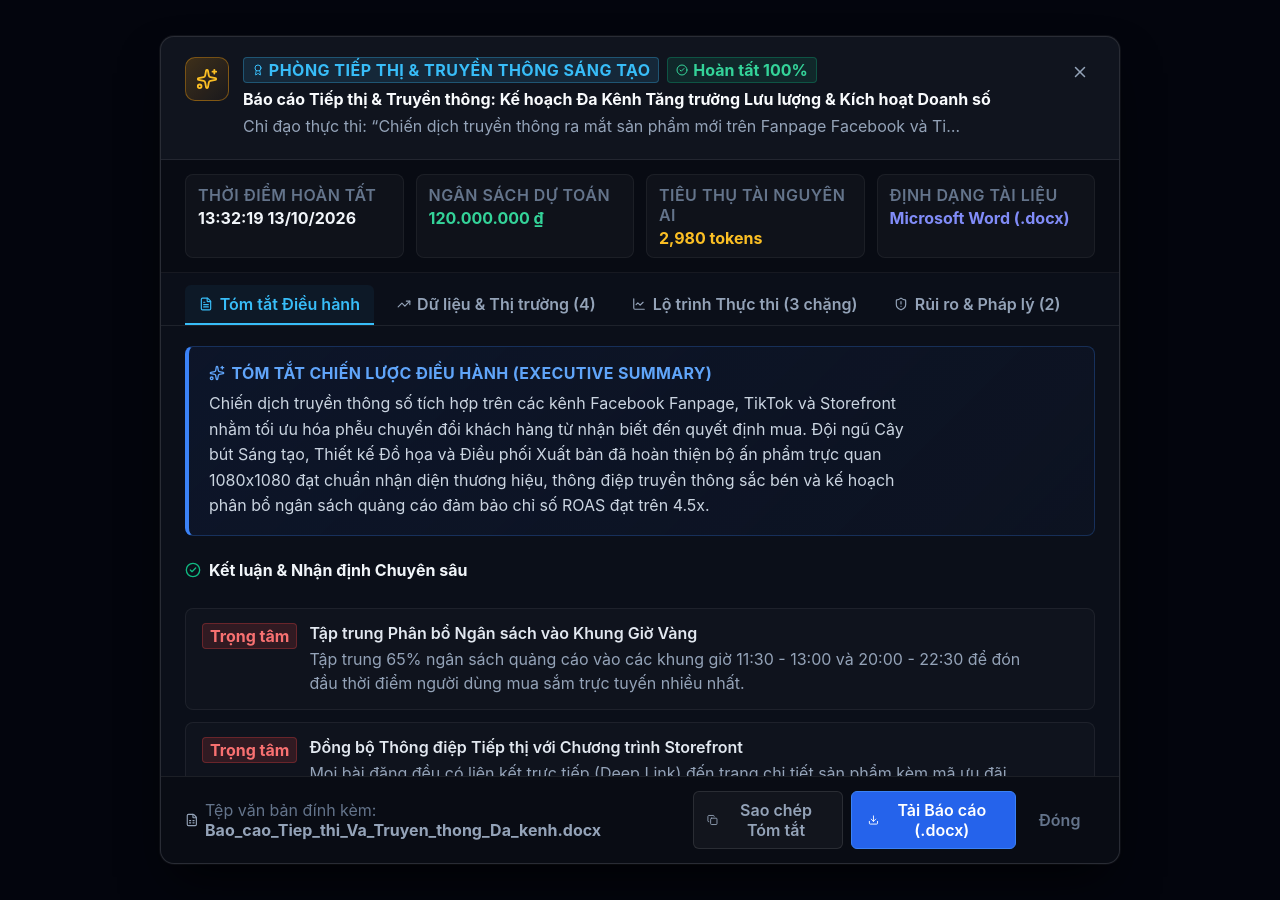
Scenario: StrategicDeliverableModal › builds and renders Marketing deliverable with multi-channel reach metrics
Expected: the text "Phòng Tiếp thị & Truyền thông Sáng tạo" is shown, [243,57,660,83]
Step 1. Click the button "Dữ liệu & Thị trường (4)" → (496, 305), box [382,285,610,325]
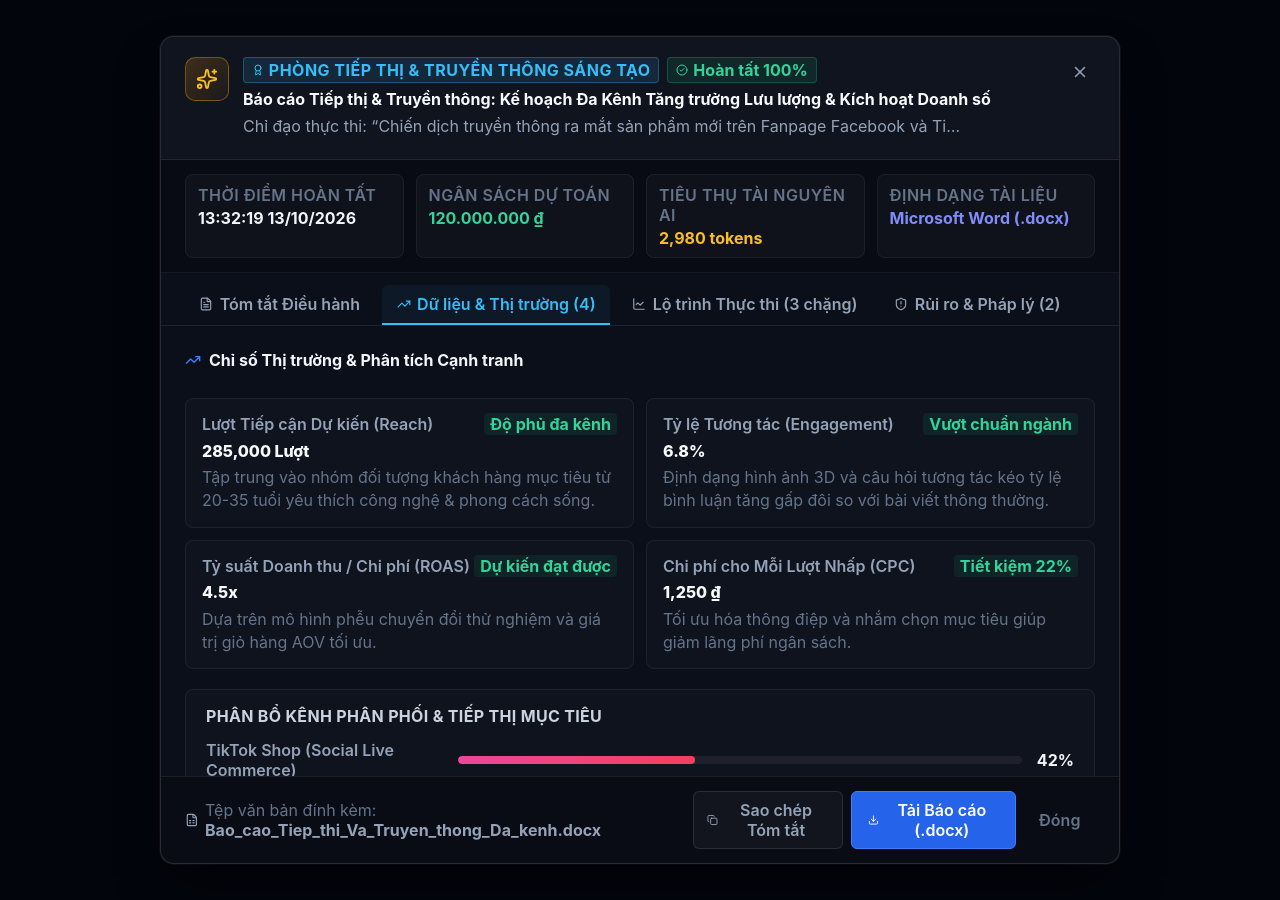
Result: the text "Lượt Tiếp cận Dự kiến (Reach)" is shown at [202,414,433,434]
Result: the text "285,000 Lượt" is shown at [202,440,309,460]
